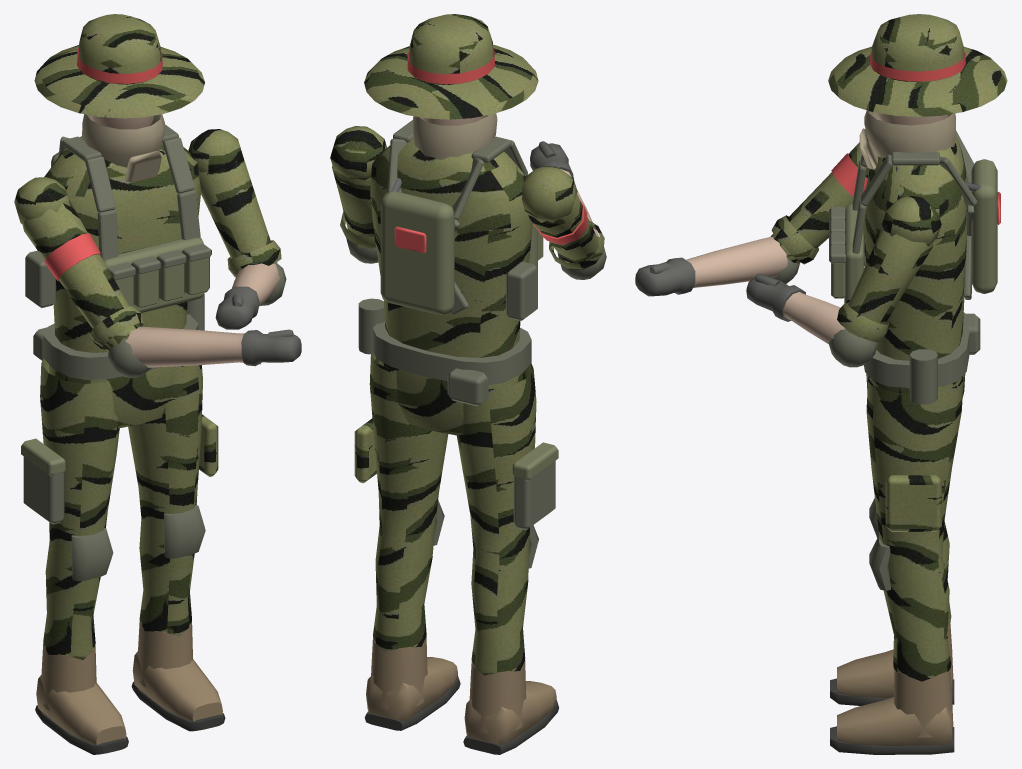
Rendered from scout.glb.
3 views of the same model, side by side, from view 1: azimuth 30°, elevation 25°; view 2: azimuth 150°, elevation 25°; view 3: azimuth 270°, elevation 25° (orthographic). The views are drawn at different scales.
Parts seen in each view (by area): view 1: body, legL, legR; view 2: body, legL, legR; view 3: body, legR, legL.
Boxes of the visible parts, x1,y1,x2,y2 form: body: [14, 14, 301, 428]; legL: [21, 358, 128, 754]; legR: [128, 365, 225, 731]; body: [330, 14, 606, 435]; legL: [457, 363, 558, 754]; legR: [354, 351, 460, 730]; body: [635, 14, 1007, 404]; legR: [830, 376, 963, 754]; legL: [830, 498, 954, 705].
Size of the model in its own units: 0.7077 by 1.9 by 0.9209.
12 materials, 1 textured.
